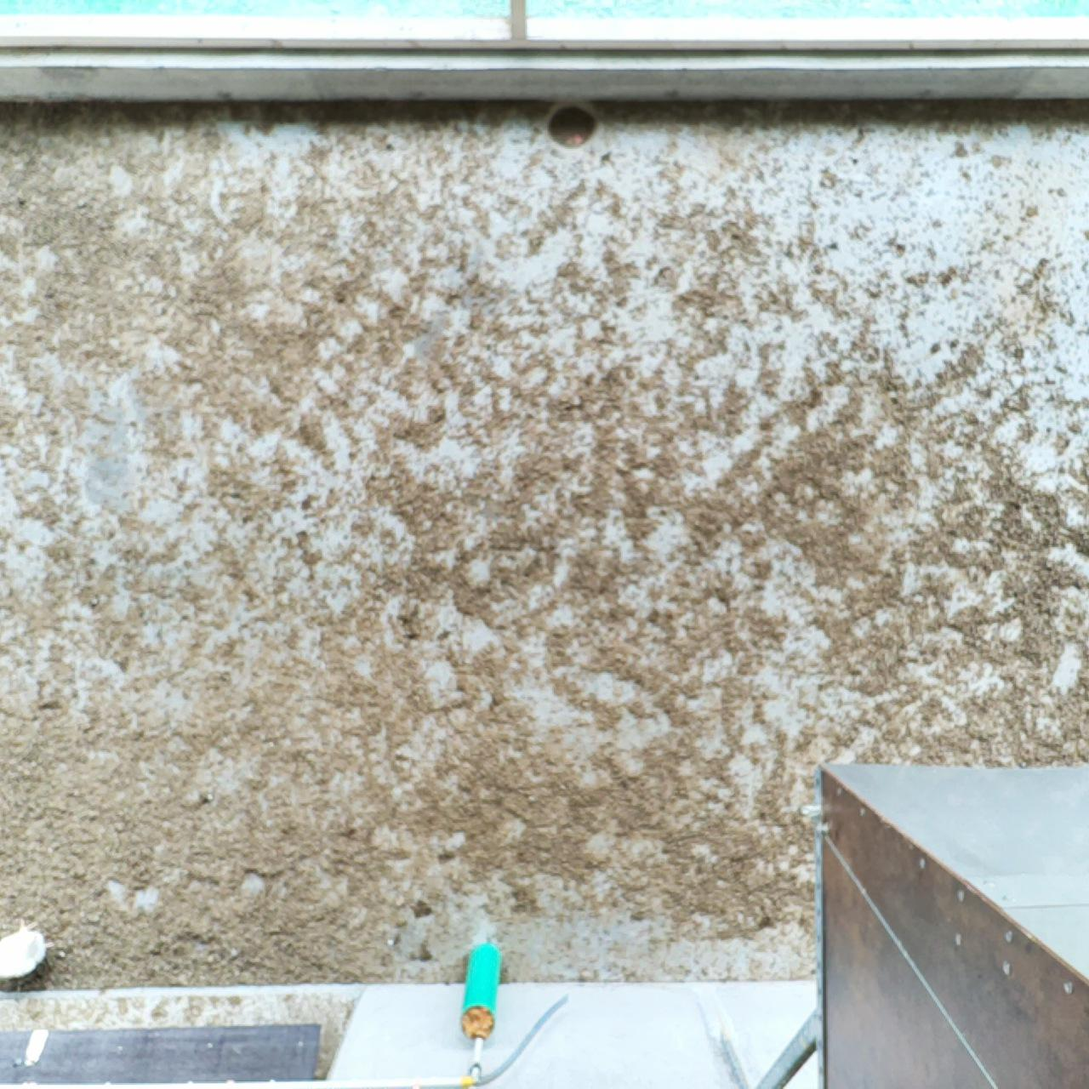chicken: (0, 915, 54, 982)
